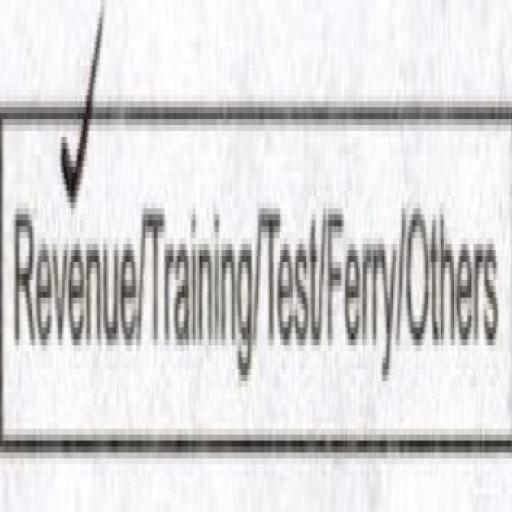check: (0, 0, 144, 494)
